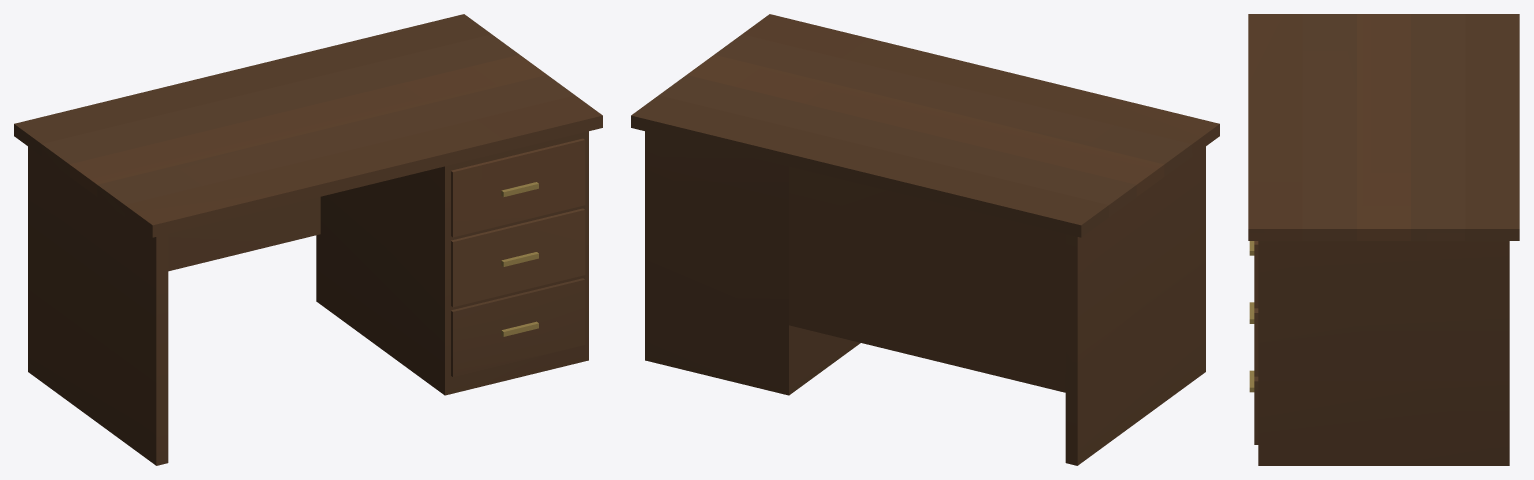
Rendered from table.desk.walnut.glb.
3 renders of one model, left to right at view 1: azimuth 30°, elevation 25°; view 2: azimuth 150°, elevation 25°; view 3: azimuth 270°, elevation 25°, orthographic. The views are drawn at different scales.
Parts seen in each view (by area): view 1: table_desk_walnut; view 2: table_desk_walnut; view 3: table_desk_walnut.
Boxes of the visible parts, bbox=[...] form: table_desk_walnut: bbox=[14, 14, 602, 465]; table_desk_walnut: bbox=[631, 14, 1219, 465]; table_desk_walnut: bbox=[1248, 14, 1519, 465].
Size of what is drawn, in the model's own units: 1.53 by 0.8 by 0.816.
